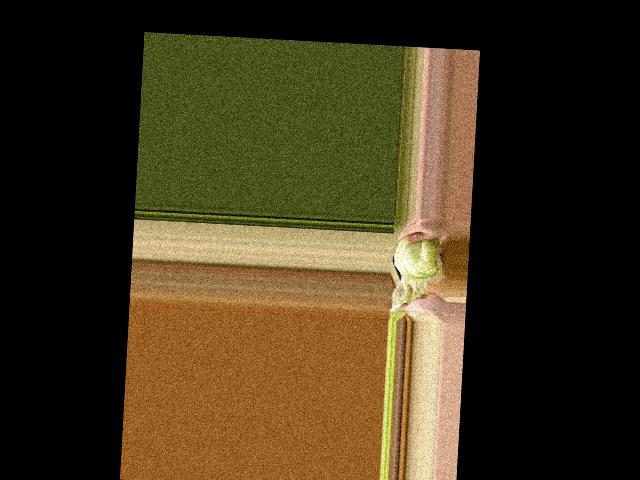lettuce: (390, 230, 447, 294)
